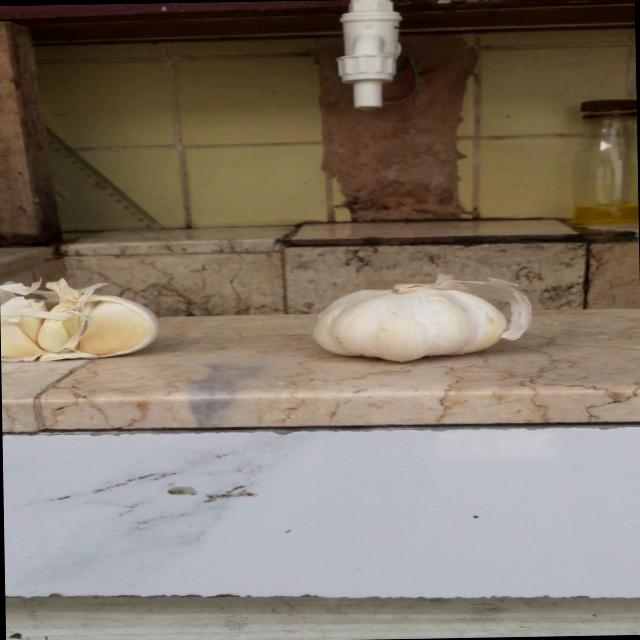bawang: (309, 270, 535, 364), (0, 275, 167, 366)
